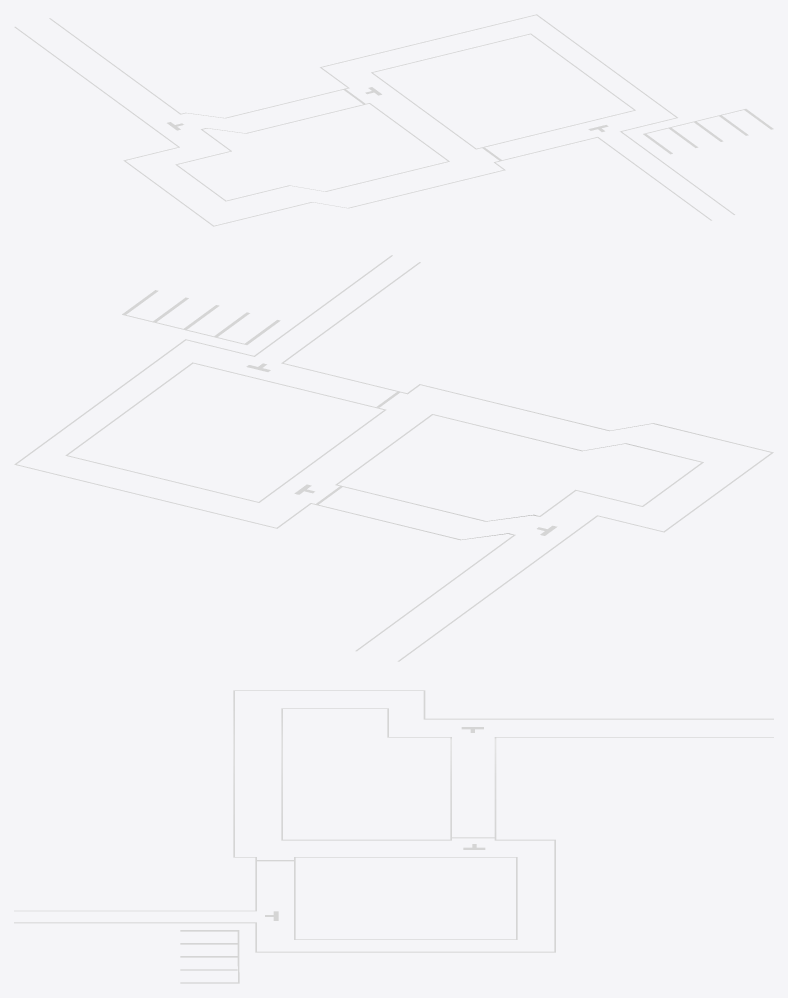
File: kd_connection_world-inner_surface_12_1.glb
3 views of the same model, one above another, from view 1: azimuth 30°, elevation 25°; view 2: azimuth 150°, elevation 25°; view 3: azimuth 270°, elevation 25° (orthographic). The views are drawn at different scales.
Visible parts, largest first — view 1: kd_connection_world-inner_surface_12_1; view 2: kd_connection_world-inner_surface_12_1; view 3: kd_connection_world-inner_surface_12_1.
Part boxes in pixels (bbox=[...]): kd_connection_world-inner_surface_12_1: bbox=[14, 14, 773, 226]; kd_connection_world-inner_surface_12_1: bbox=[14, 255, 773, 661]; kd_connection_world-inner_surface_12_1: bbox=[14, 690, 773, 983].
Bounding box in the file's own units: 48.98 × 1.3 × 56.65.
1 material, 1 textured.
